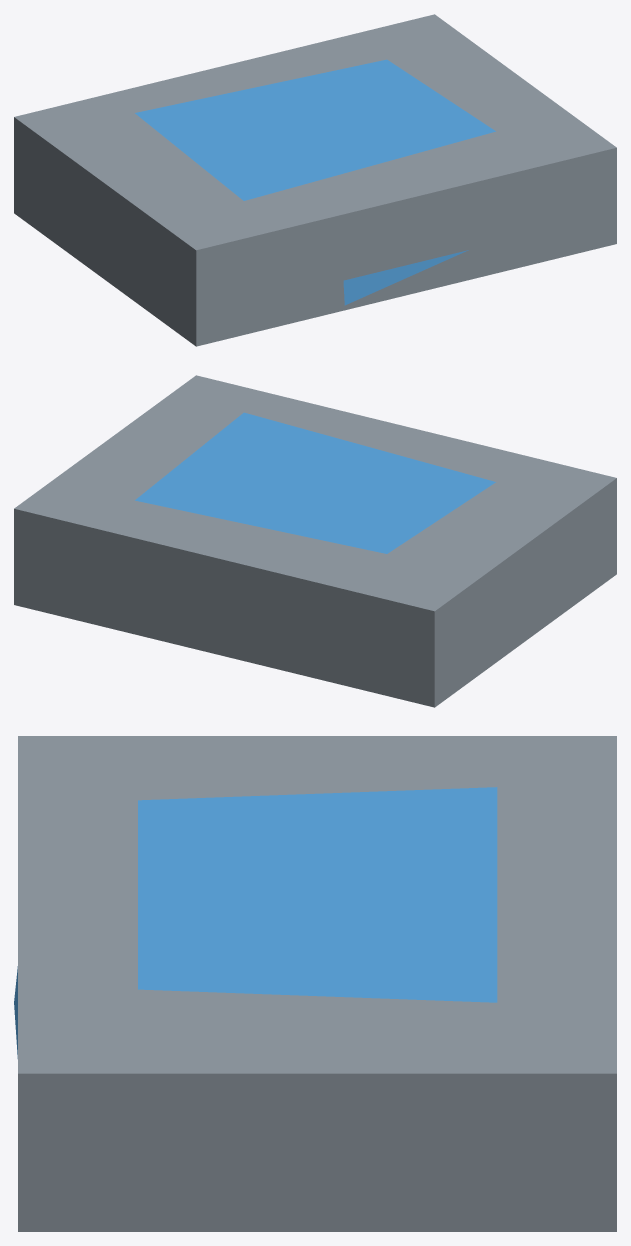
File: AL_ShrikeInterceptor_LOD1.glb
3 renders of one model, top to bottom at view 1: azimuth 30°, elevation 25°; view 2: azimuth 150°, elevation 25°; view 3: azimuth 270°, elevation 25°, orthographic. The views are drawn at different scales.
Visible parts, largest first — view 1: EntranceGate; view 2: EntranceGate; view 3: EntranceGate.
Part boxes in pixels (<box>): EntranceGate: <box>14,14,616,346</box>; EntranceGate: <box>14,375,616,707</box>; EntranceGate: <box>14,736,616,1231</box>.
Size of the model in its own units: 640 by 155 by 483.
